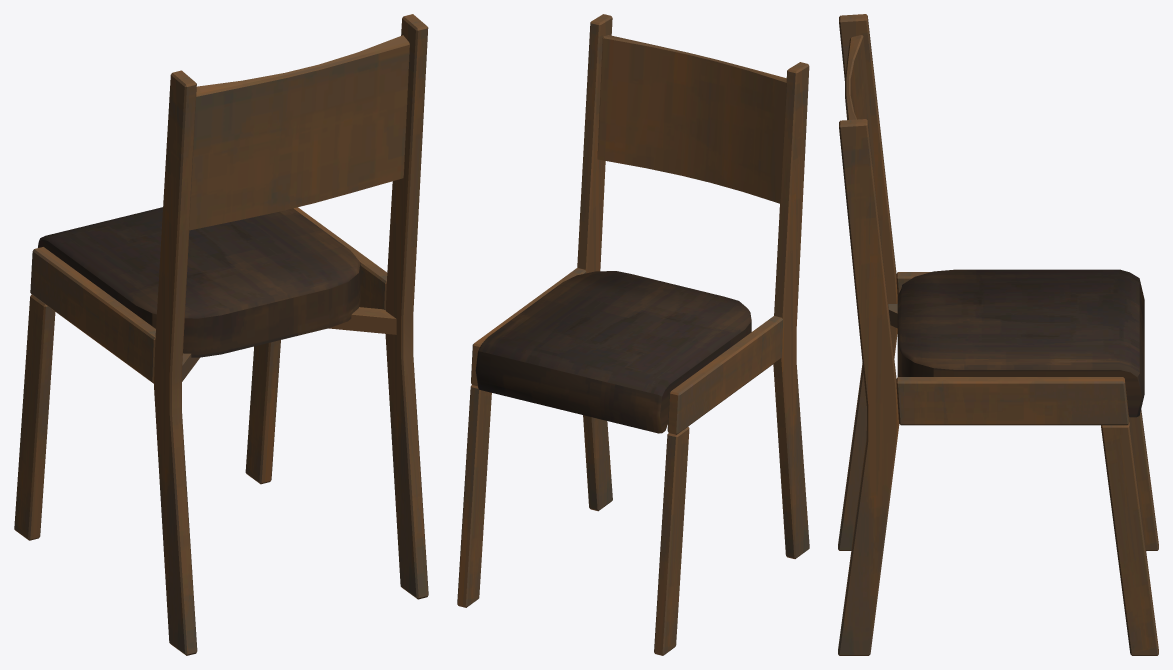
File: Silla_H2.obj
3 renders of one model, left to right at view 1: azimuth 30°, elevation 25°; view 2: azimuth 150°, elevation 25°; view 3: azimuth 270°, elevation 25°, orthographic. The views are drawn at different scales.
Parts seen in each view (by area): view 1: Silla_H2; view 2: Silla_H2; view 3: Silla_H2.
Part boxes in pixels (box(x1,y1,x2,y2)): Silla_H2: box(14, 14, 428, 655); Silla_H2: box(457, 14, 809, 655); Silla_H2: box(838, 14, 1158, 655).
Size of the model in its own units: 0.3051 by 0.6854 by 0.3743.
